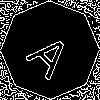A: (25, 25, 81, 81)
